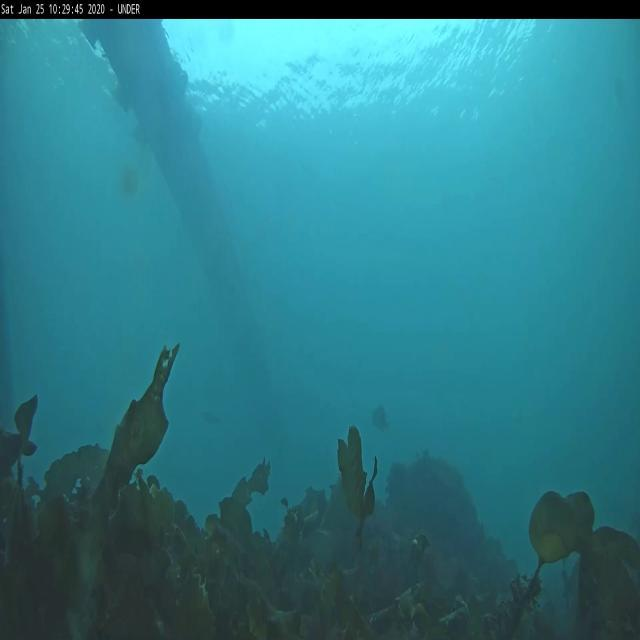fish: (196, 404, 222, 427)
